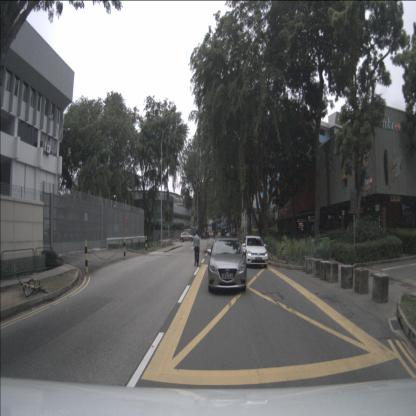human-pedestrian-adult: (193, 229, 200, 267)
vehicle-bicycle: (18, 275, 50, 297)
vehicle-car: (208, 236, 247, 295), (241, 235, 268, 269), (180, 232, 194, 243), (201, 231, 207, 240), (205, 230, 210, 239), (209, 231, 214, 238)
vehicle-truck: (220, 222, 228, 236)
